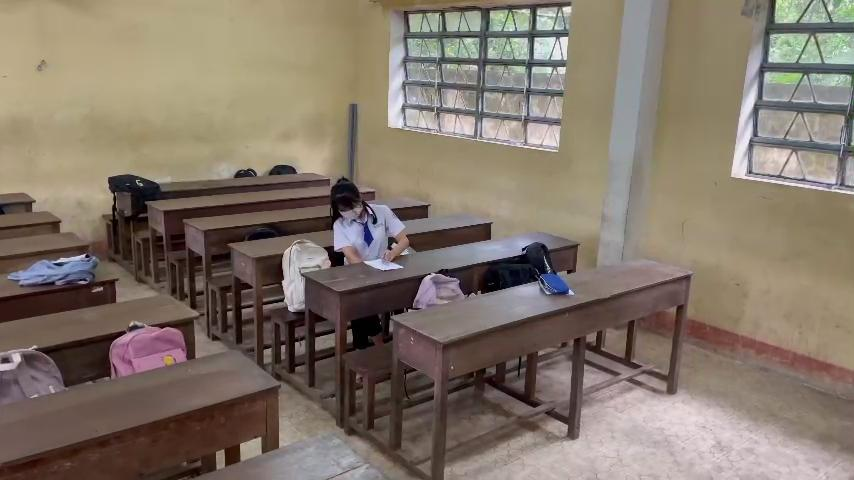Bend Over The Desk: (321, 171, 370, 225)
Hand Under Table: (325, 218, 366, 266)
